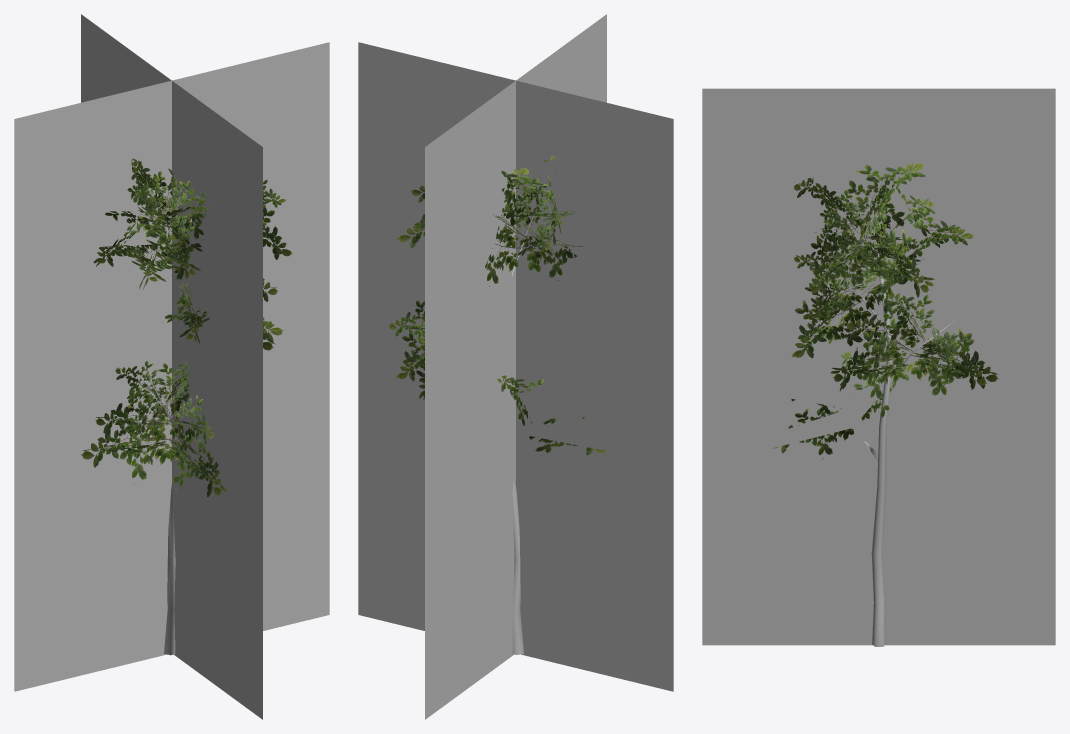
File: Tree-Beech3A-mobile.fbx
The picture shows the model from 3 angles, left to right: view 1: azimuth 30°, elevation 25°; view 2: azimuth 150°, elevation 25°; view 3: azimuth 270°, elevation 25°; orthographic projection. The views are drawn at different scales.
Visible parts, largest first — view 1: Billboard-BeechA, Tree-Beech3A-mobile_LOD0; view 2: Billboard-BeechA, Tree-Beech3A-mobile_LOD0; view 3: Billboard-BeechA, Tree-Beech3A-mobile_LOD0.
Part boxes in pixels (left/top/right/bottom): Billboard-BeechA: left=14, top=14, right=329, bottom=719; Tree-Beech3A-mobile_LOD0: left=81, top=158, right=292, bottom=655; Billboard-BeechA: left=358, top=14, right=673, bottom=719; Tree-Beech3A-mobile_LOD0: left=388, top=156, right=606, bottom=654; Billboard-BeechA: left=702, top=88, right=1055, bottom=645; Tree-Beech3A-mobile_LOD0: left=773, top=162, right=998, bottom=646.
Size of what is drawn, in the model's own units: 946 by 1642 by 946.
